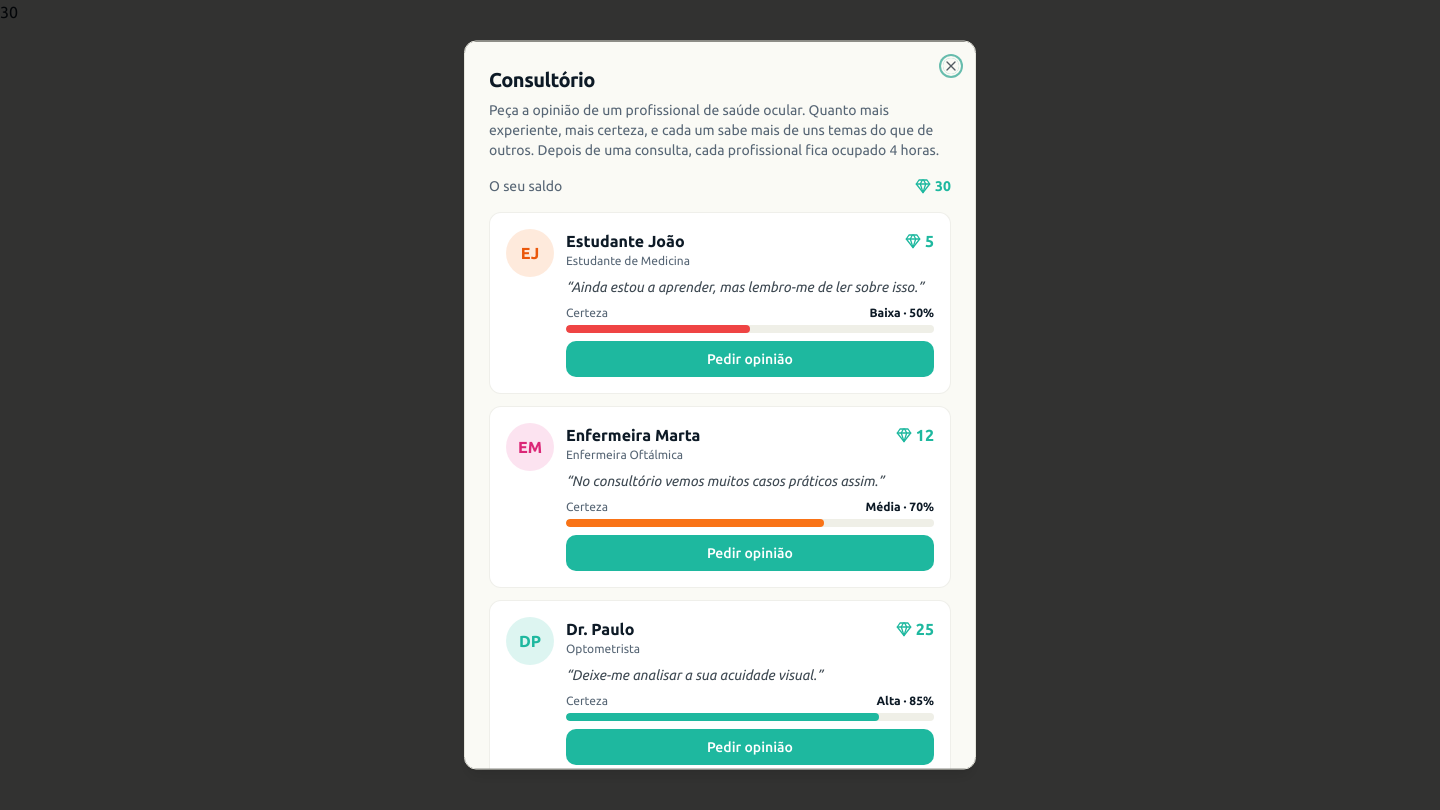
Test: MercadoModal › comprar: envia só vendedor, pergunta e opções escondidas; mostra a fala e actualiza o saldo
Click the button with aria-label "Pedir a opinião de Enfermeira Marta por 12". click: (750, 552)
box: [566,534,934,570]
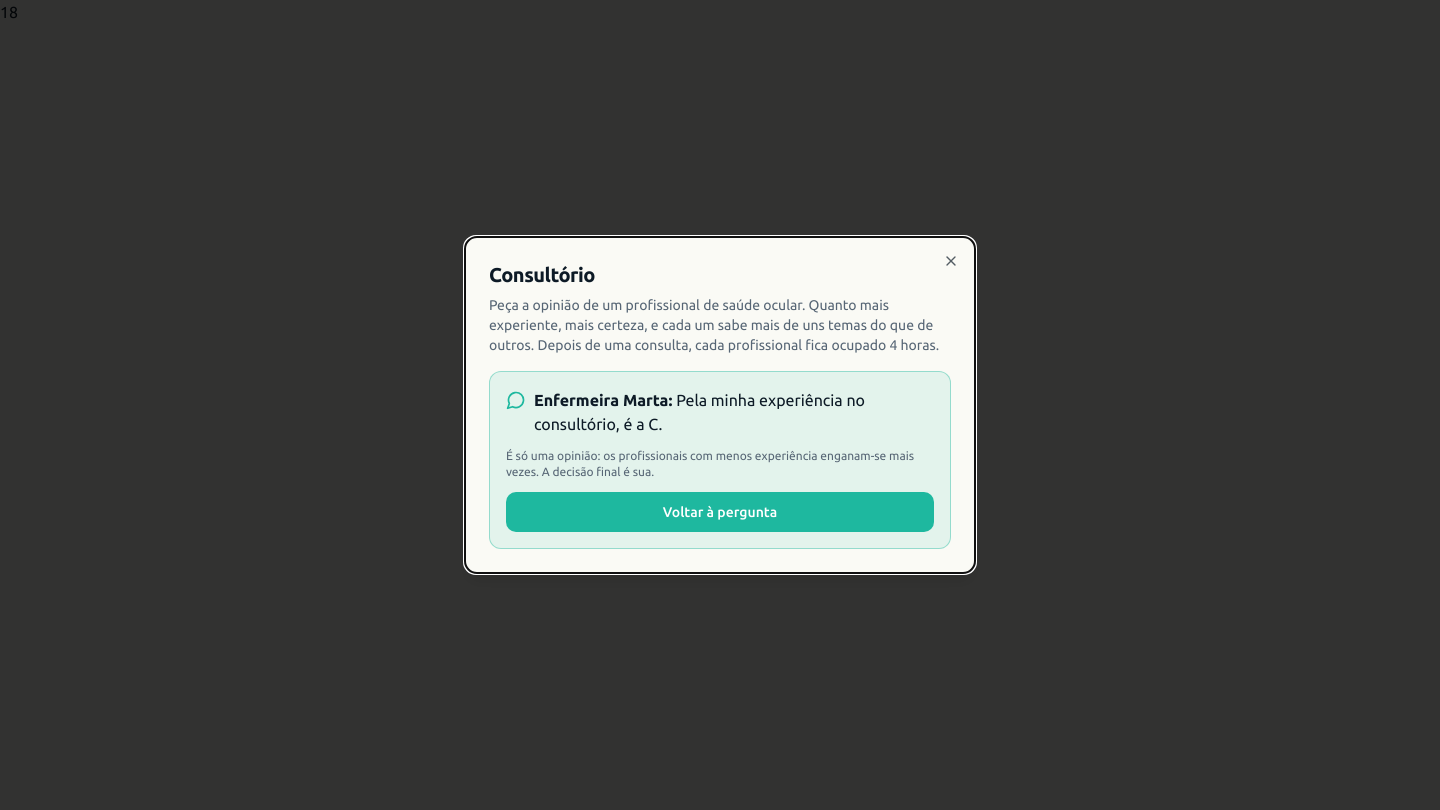
Expected: the text "Pela minha experiência no consultório, é a C." is shown, [534,391,865,433]
Expected: the text with test id "saldo" reads "18", [0,3,18,21]
